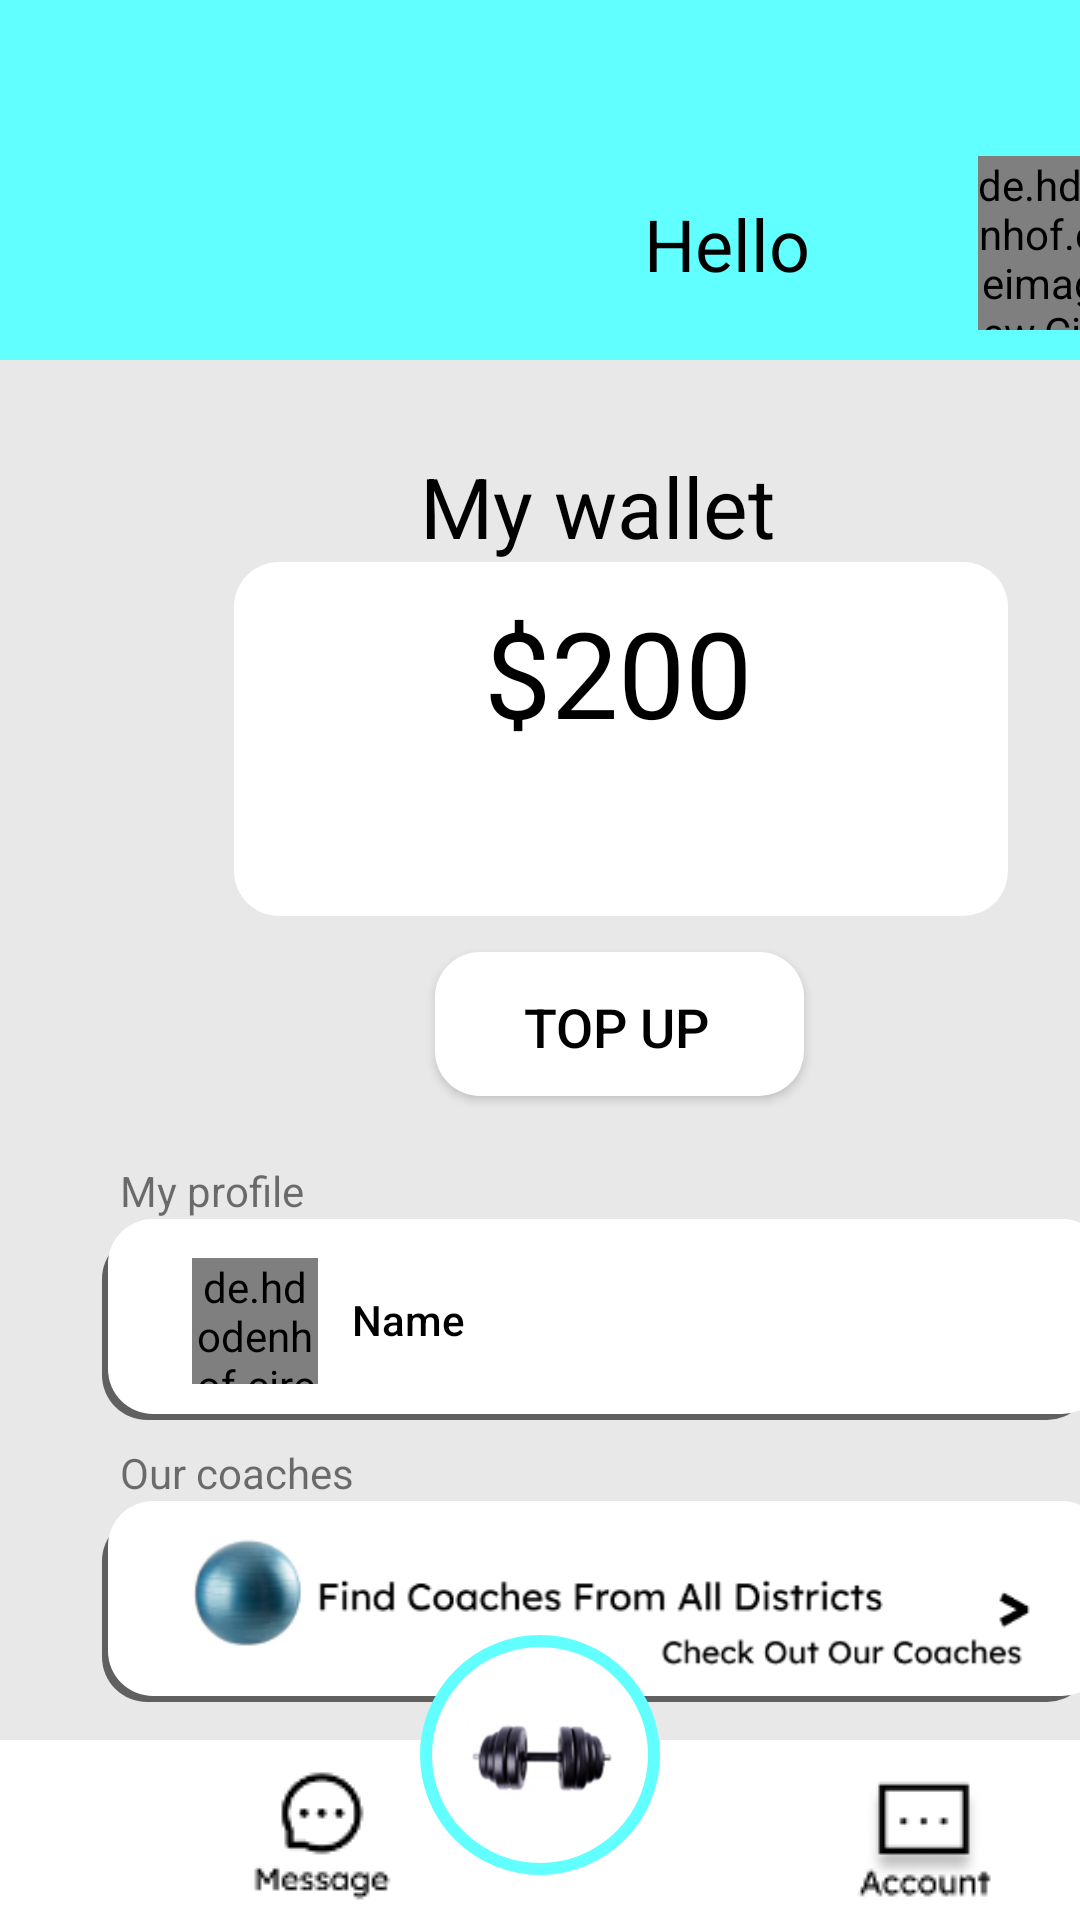

Icons on this 1080px x 1920px Android screen, each with its box as (x1, y1, x2, y2):
dumpbell: (420, 1635, 660, 1875)
